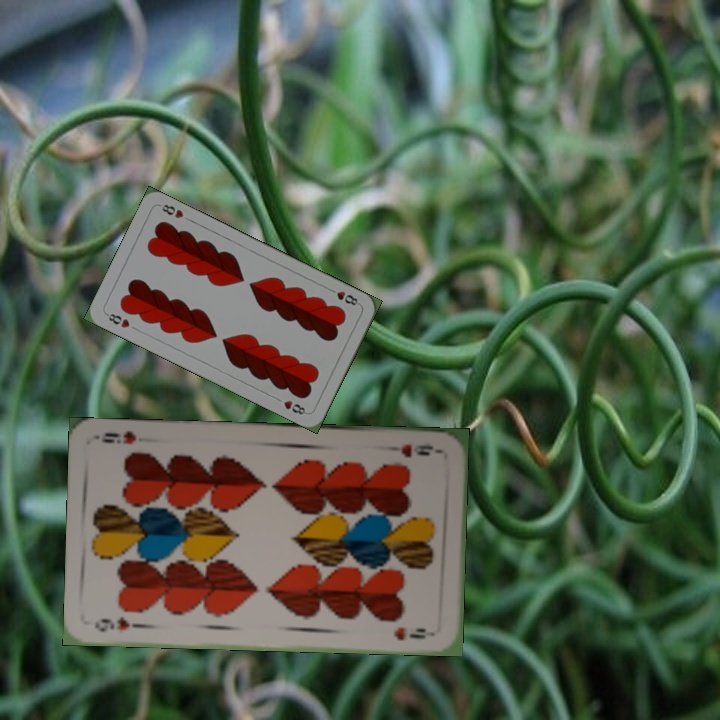H8: (324, 284, 362, 308), (102, 309, 132, 331)
H9: (91, 612, 147, 635), (397, 438, 442, 460)
